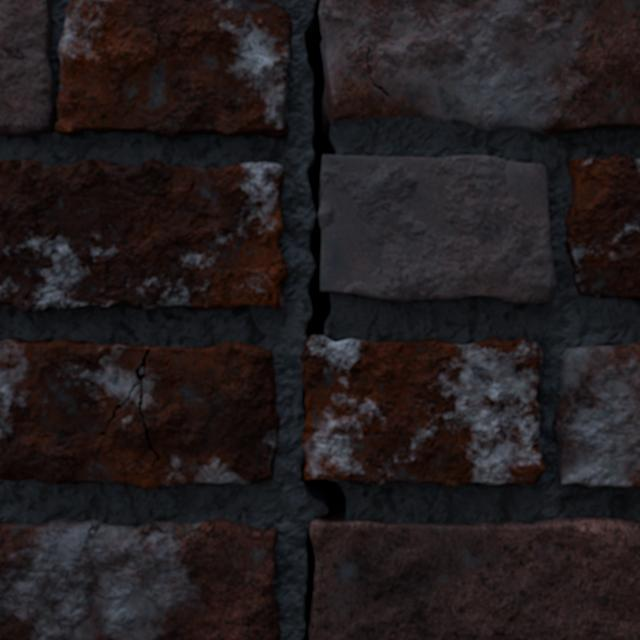crack: (301, 0, 639, 639), (0, 158, 288, 313), (0, 338, 279, 489), (0, 0, 292, 138), (0, 518, 281, 639), (552, 342, 639, 487), (565, 153, 639, 301)
